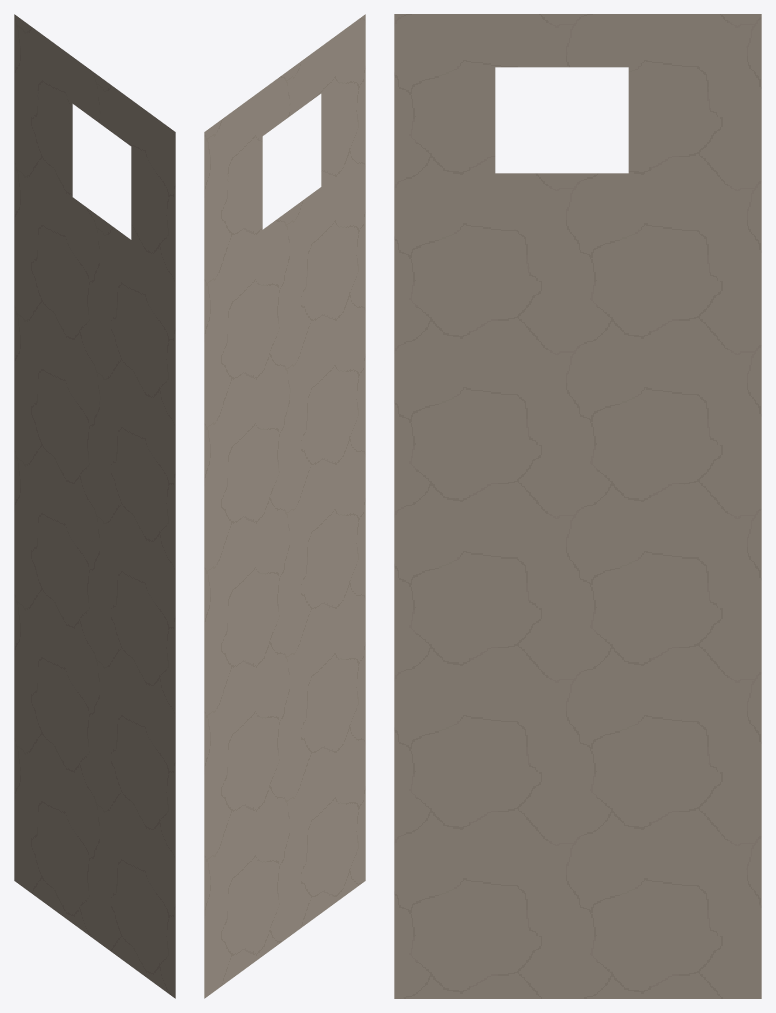
File: kd_stage_135b75_4_159_bounded_piece_0.glb
3 views of the same model, side by side, from view 1: azimuth 30°, elevation 25°; view 2: azimuth 150°, elevation 25°; view 3: azimuth 270°, elevation 25° (orthographic). The views are drawn at different scales.
Parts seen in each view (by area): view 1: kd_stage_135b75_4_159_bounded_piece_0; view 2: kd_stage_135b75_4_159_bounded_piece_0; view 3: kd_stage_135b75_4_159_bounded_piece_0.
Part boxes in pixels (x1=…): kd_stage_135b75_4_159_bounded_piece_0: x1=14, y1=14, x2=175, y2=998; kd_stage_135b75_4_159_bounded_piece_0: x1=204, y1=14, x2=365, y2=998; kd_stage_135b75_4_159_bounded_piece_0: x1=394, y1=14, x2=761, y2=998.
Size of the model in its own units: 0 by 2.44 by 0.8252.
1 material, 1 textured.
